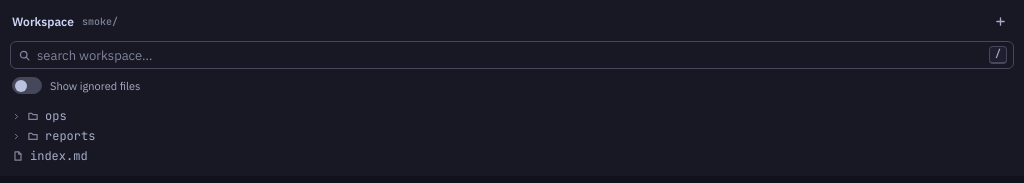
a #tag search kicks the on-demand index scan and filters to notes carrying that tag
Expected: the button with test id "file-node-index.md" is shown, [6,146,1018,166]
Type "#x" into the search field labelled "search workspace…" at (512, 55), box [10,41,1014,69]
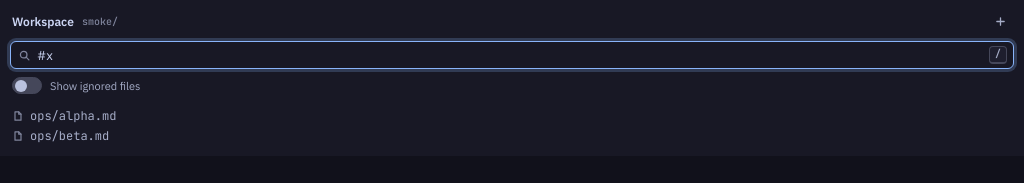
Expected: the button with test id "file-node-ops/alpha.md" is shown, [6,106,1018,126]
Expected: the button with test id "file-node-ops/beta.md" is shown, [6,126,1018,146]
